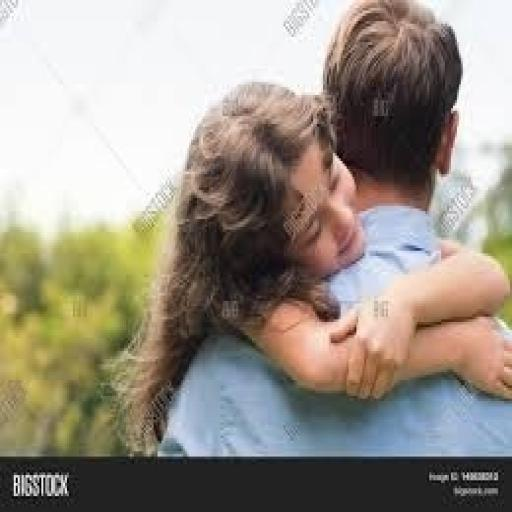hugging: (106, 0, 510, 457)
